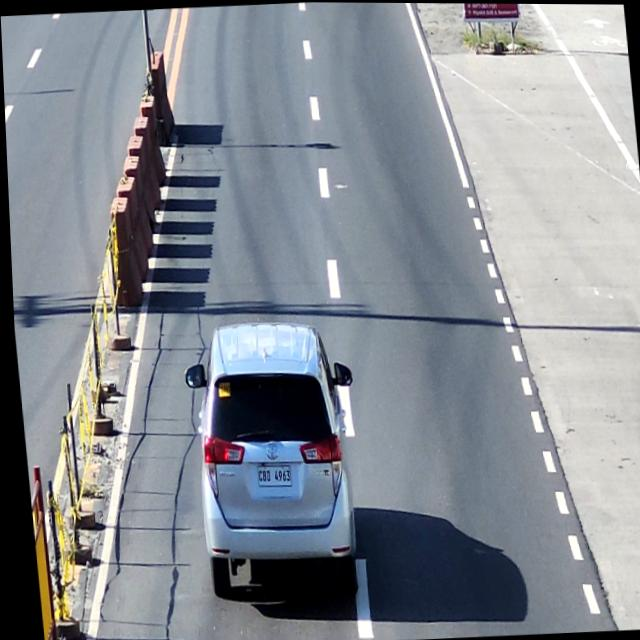Car: (187, 319, 358, 606)
License-Plate: (253, 464, 288, 492)
